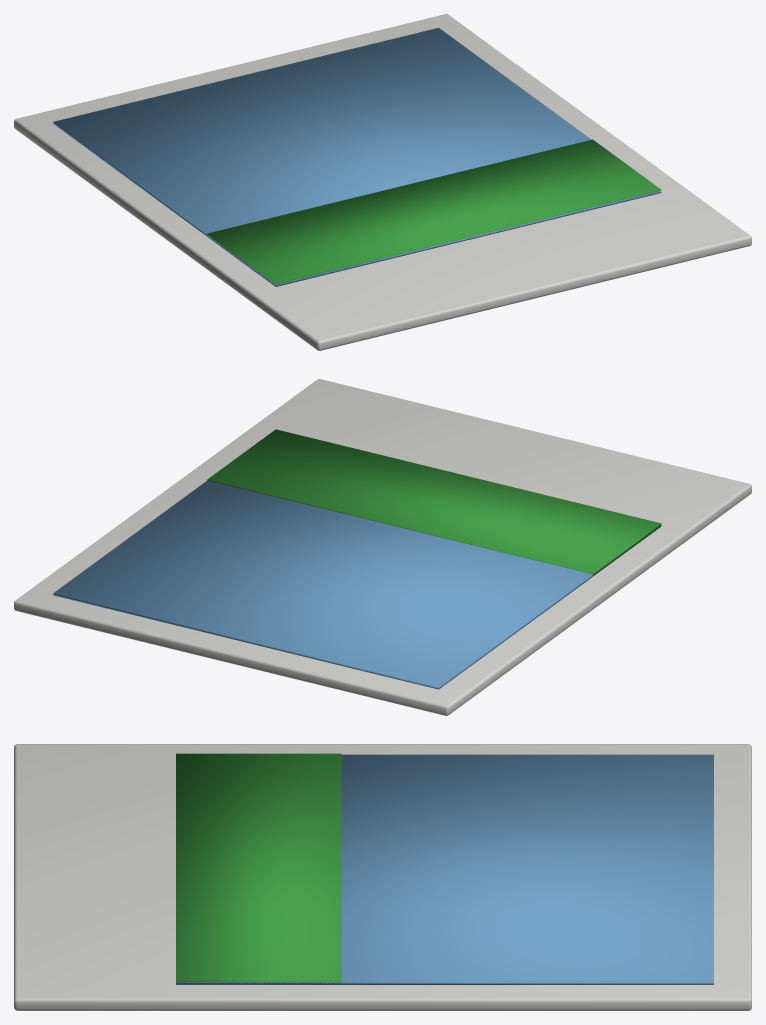
File: instant_photo.glb
3 renders of one model, top to bottom at view 1: azimuth 30°, elevation 25°; view 2: azimuth 150°, elevation 25°; view 3: azimuth 270°, elevation 25°, orthographic. The views are drawn at different scales.
Parts seen in each view (by area): view 1: instant_photo; view 2: instant_photo; view 3: instant_photo.
Boxes of the visible parts, bbox=[...] form: instant_photo: bbox=[14, 14, 751, 350]; instant_photo: bbox=[14, 379, 751, 715]; instant_photo: bbox=[14, 744, 751, 1010].
Size of the model in its own units: 0.088 by 0.00265 by 0.107.
